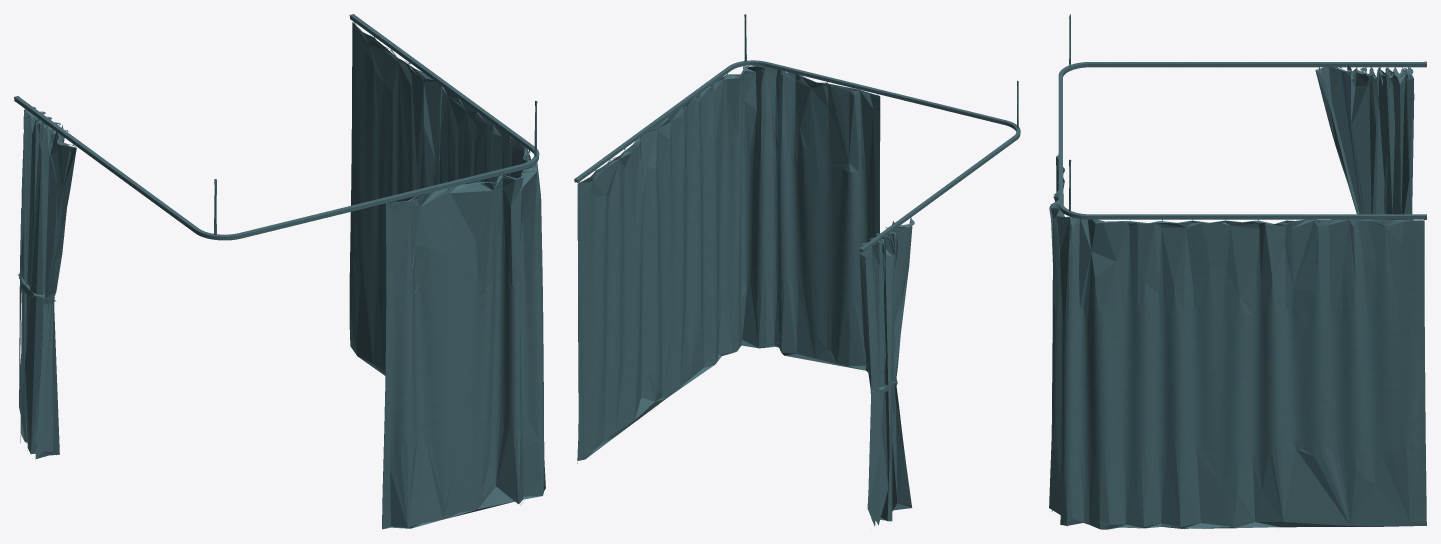
File: screen_hospital_b05.glb
3 views of the same model, side by side, from view 1: azimuth 30°, elevation 25°; view 2: azimuth 150°, elevation 25°; view 3: azimuth 270°, elevation 25° (orthographic). The views are drawn at different scales.
Parts seen in each view (by area): view 1: geometry_0; view 2: geometry_0; view 3: geometry_0.
Part boxes in pixels (x1,y1,x2,y2): geometry_0: (14,14,545,529); geometry_0: (574,14,1020,526); geometry_0: (1049,14,1426,529).
Bounding box in the file's own units: 0.4059 × 0.42 × 0.3938.
Materials: 1 (1 with a texture image).
